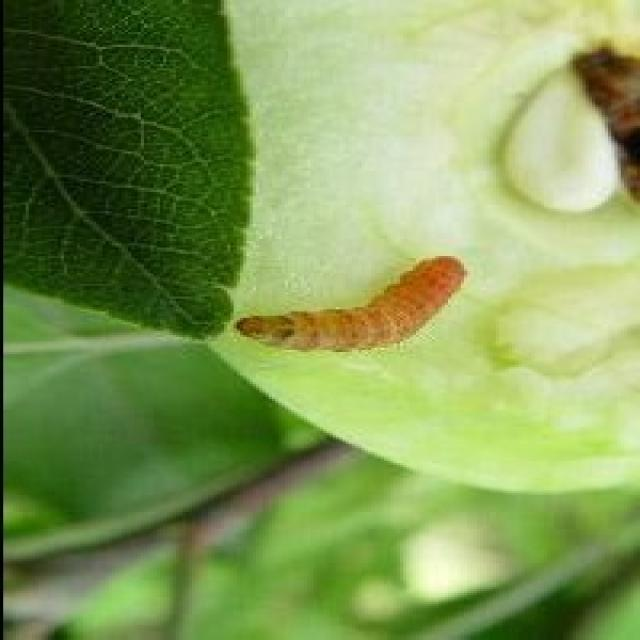peach borer: (227, 248, 467, 357)
